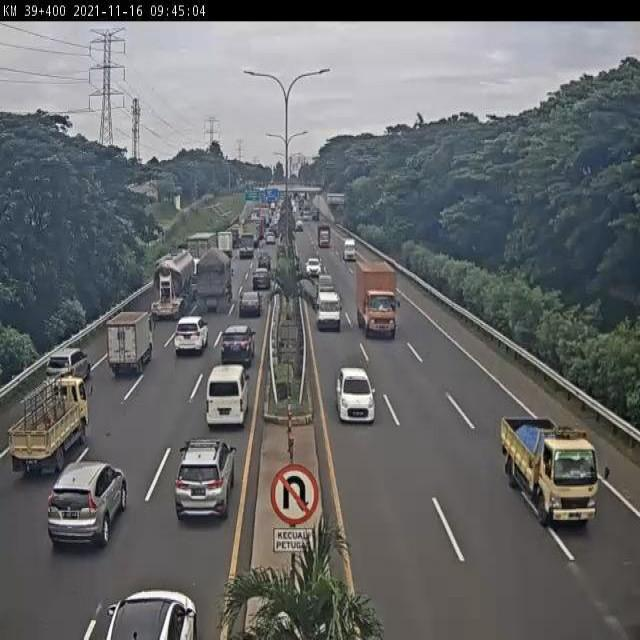car: (47, 463, 128, 545), (172, 441, 234, 524), (336, 366, 375, 426), (44, 347, 90, 392), (173, 316, 208, 357), (219, 328, 251, 365), (318, 292, 343, 331), (237, 297, 259, 327), (252, 273, 271, 295), (317, 273, 333, 299), (256, 254, 273, 278), (305, 256, 321, 276)
small bus: (205, 369, 248, 427)
small truck: (498, 415, 596, 528), (10, 385, 87, 475), (108, 312, 154, 373)
truck-l-: (190, 252, 234, 313), (180, 236, 217, 292)
truck-m-: (355, 258, 400, 338)
truck-xl-: (145, 250, 196, 326)
